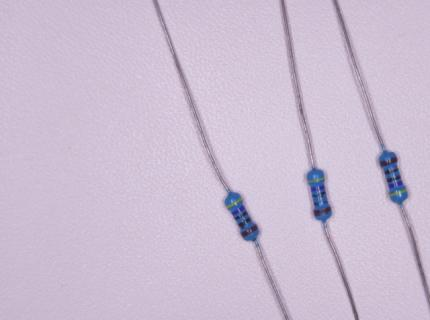Black band: (238, 217, 252, 227), (235, 212, 248, 221), (387, 175, 401, 183), (384, 168, 399, 175), (314, 200, 328, 206), (312, 192, 326, 198)
Brown band: (241, 225, 258, 238), (379, 157, 398, 167), (314, 206, 332, 216)
Violet band: (231, 206, 246, 216), (389, 180, 404, 189), (311, 185, 325, 191)
Yellow band: (226, 197, 243, 209), (388, 188, 408, 198), (307, 177, 325, 183)
